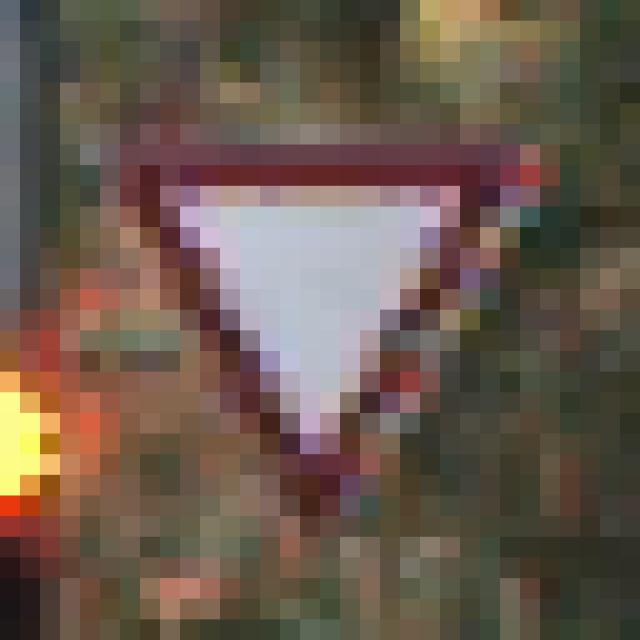Give Way: (101, 104, 541, 538)
